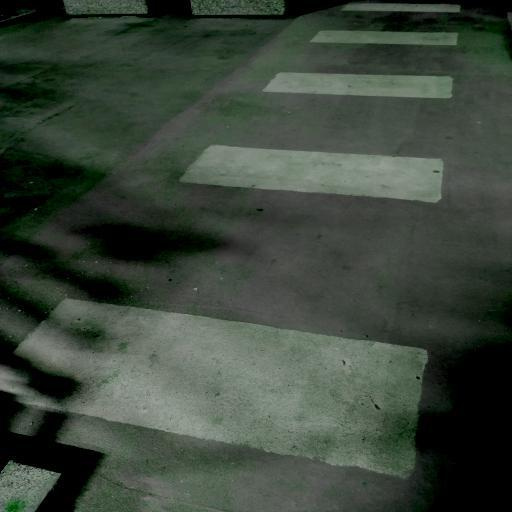crosswalk: (156, 64, 470, 216)
